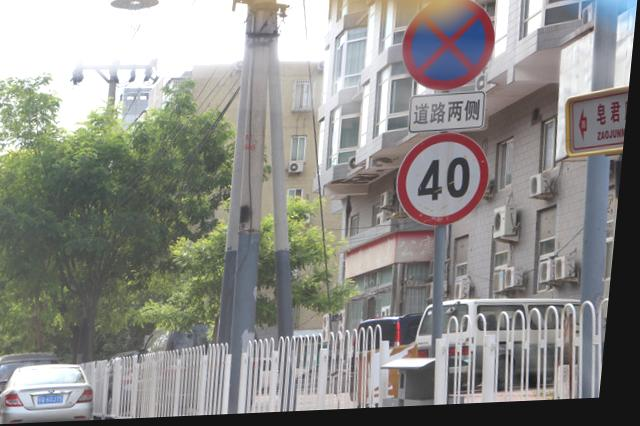limit40: (398, 137, 496, 231)
